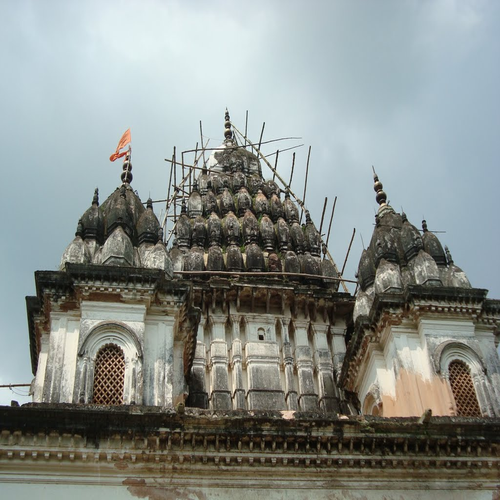Temple: (49, 118, 468, 414)
